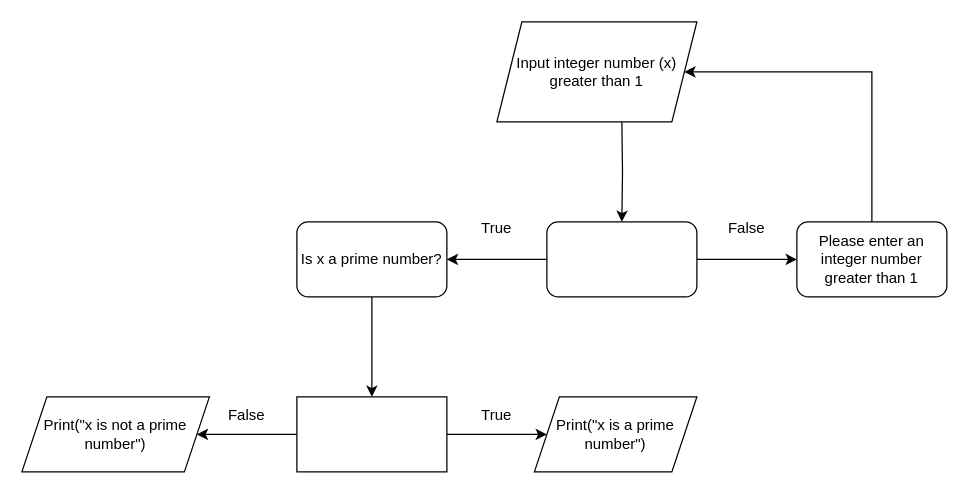
Some shapes in this 969 by 494 pixel diagram are drawn without their labels. The centre of each missing label's shape, as x and y in pixels:
for i in range (2,x): if x % i == 0: pixel 371 434
if x > 1 true/false: pixel 621 259
